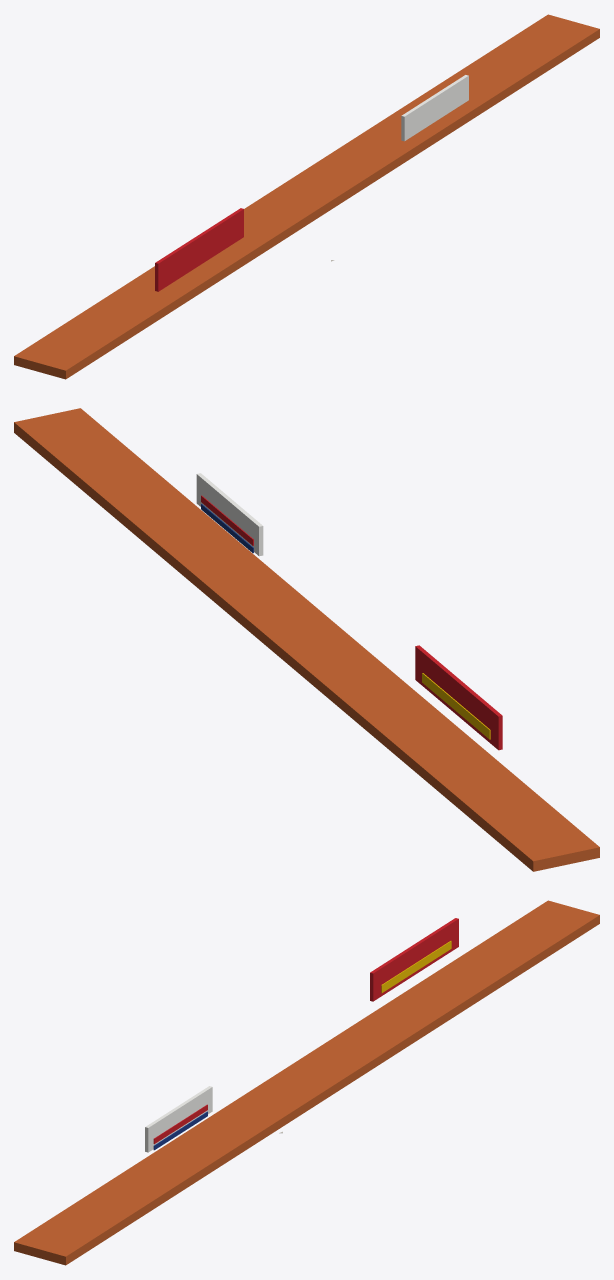
The model's file is pa_opop.glb.
3 views of the same model, one above another, from view 1: azimuth 90°, elevation 25°; view 2: azimuth 150°, elevation 25°; view 3: azimuth 270°, elevation 25° (orthographic). The views are drawn at different scales.
Parts seen in each view (by area): view 1: pa_opop_lod0; view 2: pa_opop_lod0; view 3: pa_opop_lod0.
Part boxes in pixels (bbox=[...]): pa_opop_lod0: bbox=[14, 14, 599, 379]; pa_opop_lod0: bbox=[14, 408, 599, 871]; pa_opop_lod0: bbox=[14, 900, 599, 1265].
Size of what is drawn, in the model's own units: 43.39 by 6.01 by 30.17.
